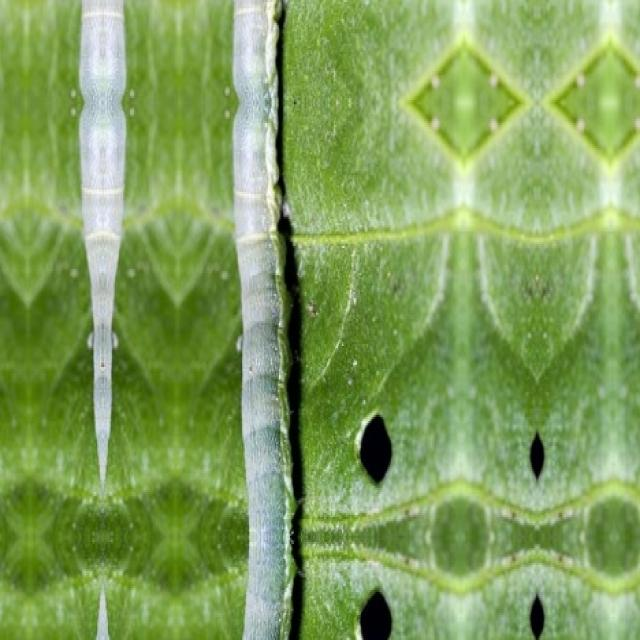armyworm: (230, 0, 305, 640)
